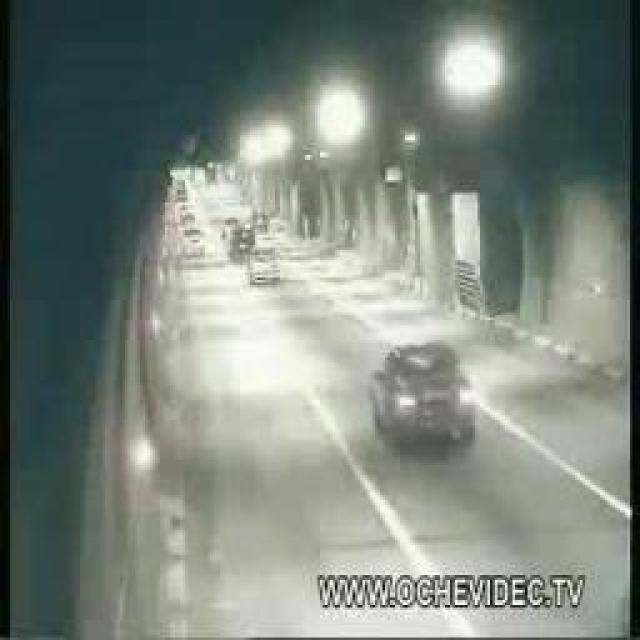other: (222, 338, 306, 385), (438, 41, 508, 93), (233, 118, 297, 174), (319, 85, 370, 152), (126, 430, 163, 472)
